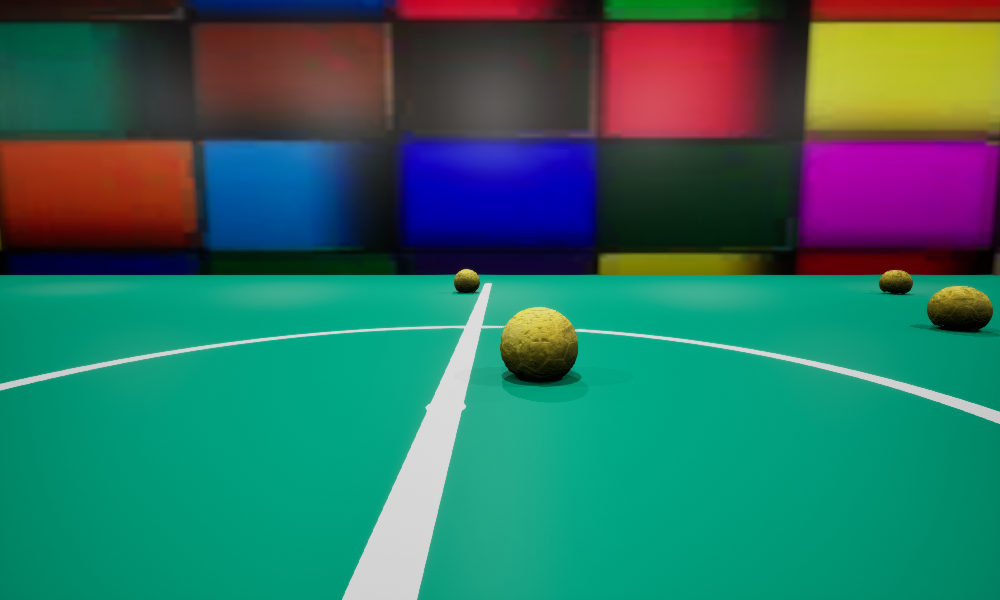b: (500, 307, 577, 379), (927, 286, 992, 330), (879, 270, 912, 293), (454, 269, 479, 292)
